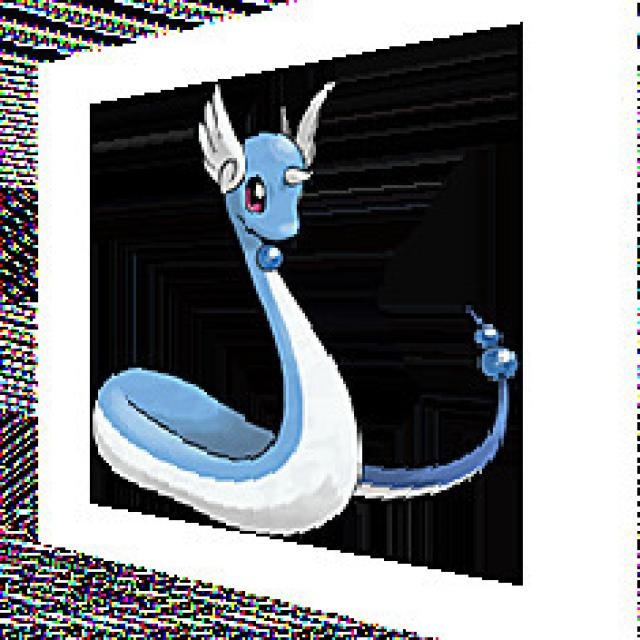Dragonair: (100, 77, 376, 539)
